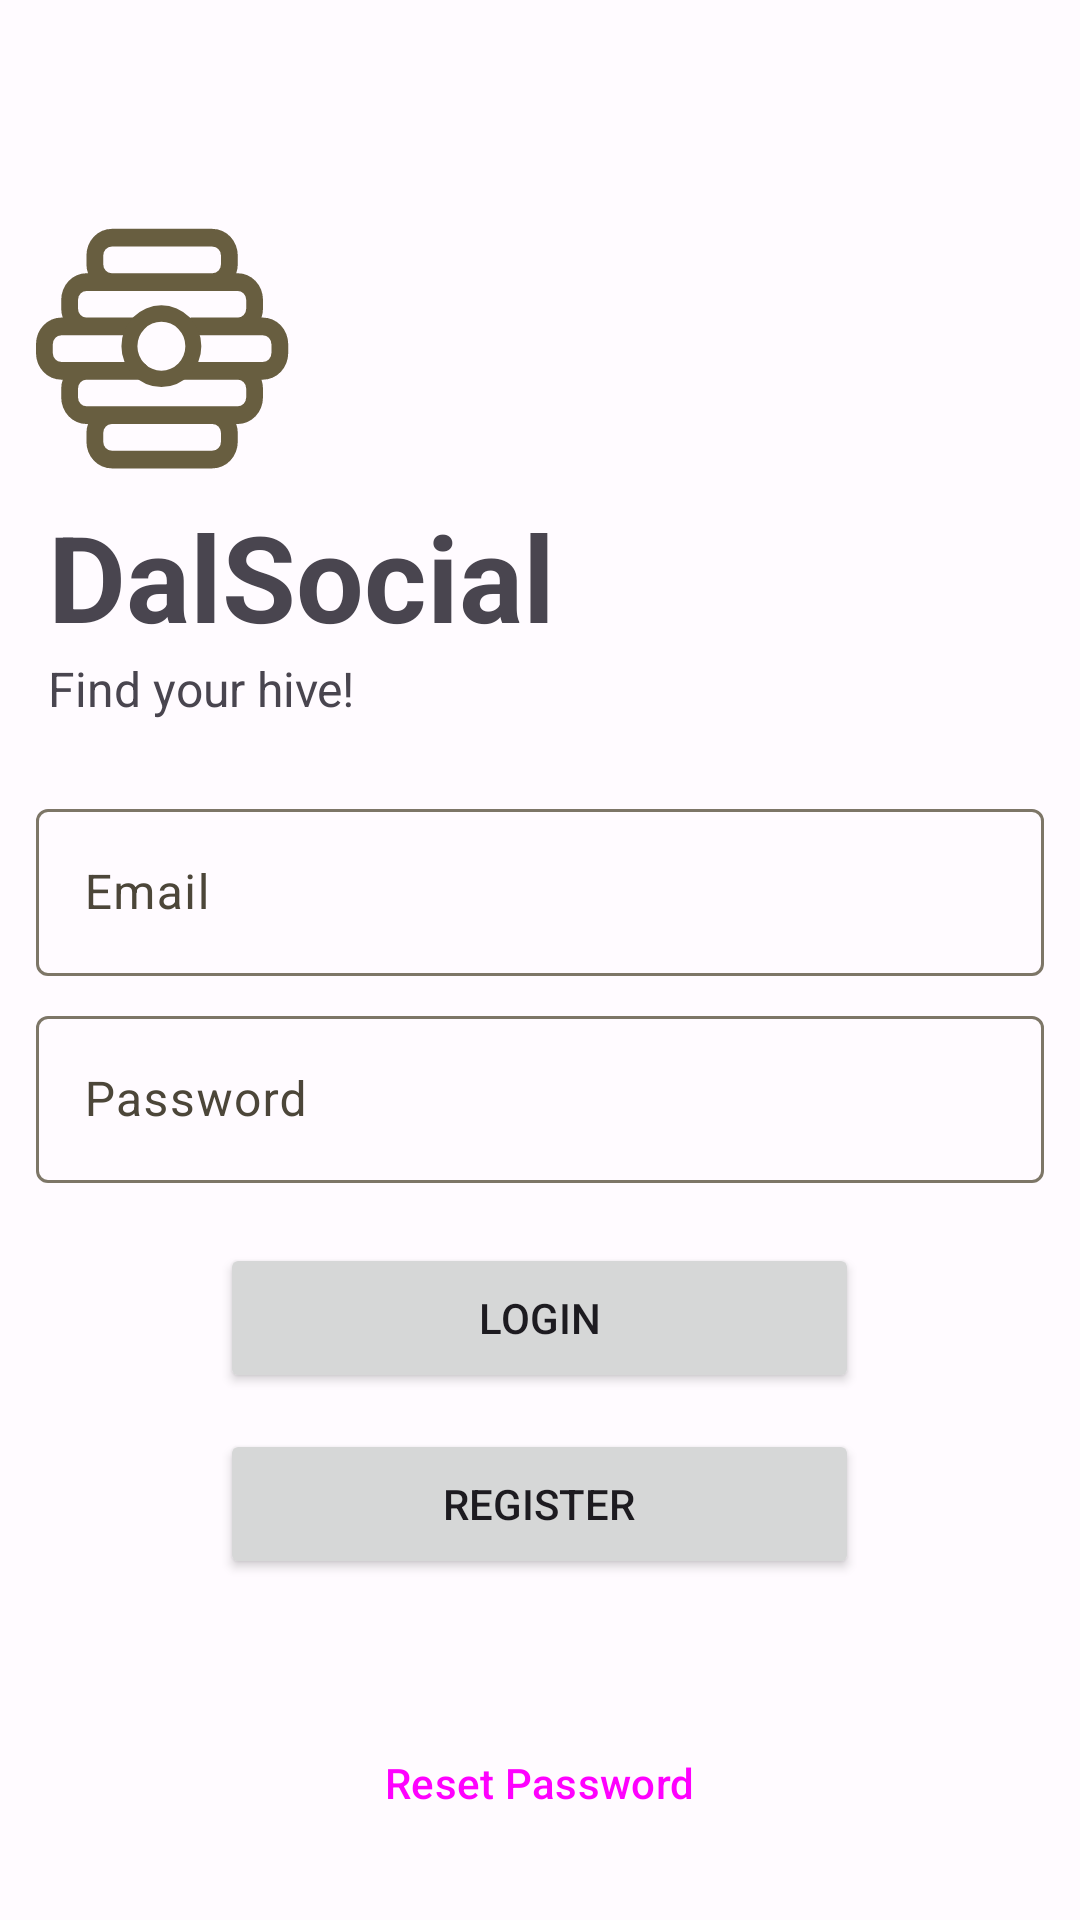

Screen size 1080x1920. Icon name, then its center in pixels as point (x, y):
beehive: point (162, 348)
